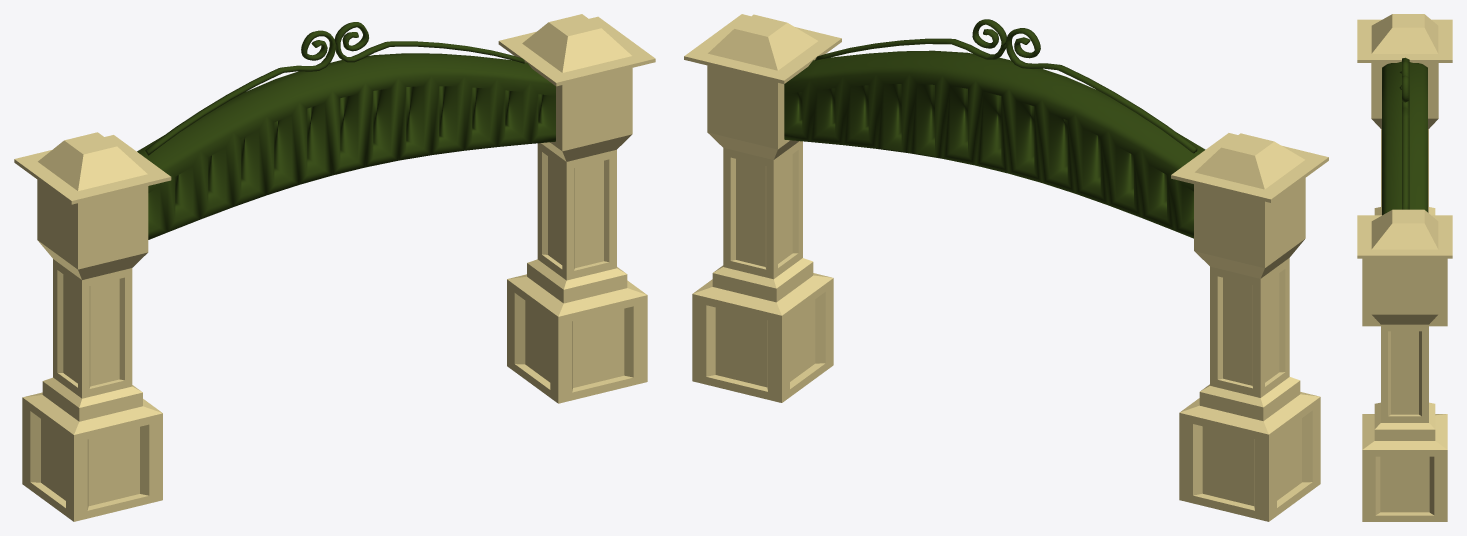
File: porton-entrada.fbx
The picture shows the model from 3 angles, left to right: view 1: azimuth 30°, elevation 25°; view 2: azimuth 150°, elevation 25°; view 3: azimuth 270°, elevation 25°; orthographic projection. The views are drawn at different scales.
Visible parts, largest first — view 1: metal, pilar, pilar.001, ornament; view 2: metal, pilar, pilar.001, ornament; view 3: pilar.001, pilar, metal, ornament.
Part boxes in pixels (left/top/right/bottom): metal: left=137, top=53, right=555, bottom=239; pilar: left=14, top=132, right=171, bottom=521; pilar.001: left=498, top=14, right=655, bottom=403; ornament: left=144, top=22, right=524, bottom=155; metal: left=784, top=50, right=1205, bottom=238; pilar: left=1171, top=133, right=1328, bottom=521; pilar.001: left=684, top=14, right=841, bottom=402; ornament: left=814, top=19, right=1197, bottom=153; pilar.001: left=1357, top=209, right=1452, bottom=521; pilar: left=1357, top=14, right=1452, bottom=326; metal: left=1382, top=61, right=1427, bottom=215; ornament: left=1399, top=57, right=1409, bottom=209.
Size of the model in its own units: 2411 by 1602 by 411.
